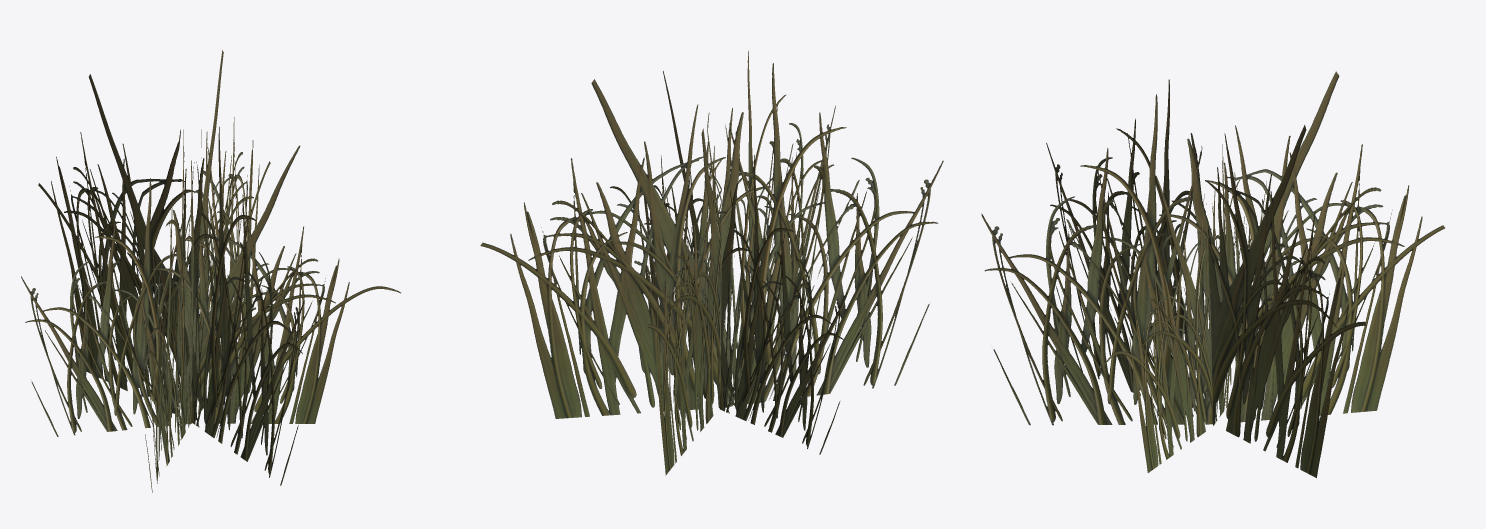
The model's file is small_foliage_01.glb.
3 views of the same model, side by side, from view 1: azimuth 30°, elevation 25°; view 2: azimuth 150°, elevation 25°; view 3: azimuth 270°, elevation 25° (orthographic). The views are drawn at different scales.
Visible parts, largest first — view 1: Plane.112; view 2: Plane.112; view 3: Plane.112.
Part boxes in pixels (bbox=[...]): Plane.112: bbox=[21, 50, 400, 492]; Plane.112: bbox=[480, 50, 943, 475]; Plane.112: bbox=[981, 71, 1444, 477].
Bounding box in the file's own units: 0.6583 × 0.7222 × 0.8219.
1 material, 1 textured.
